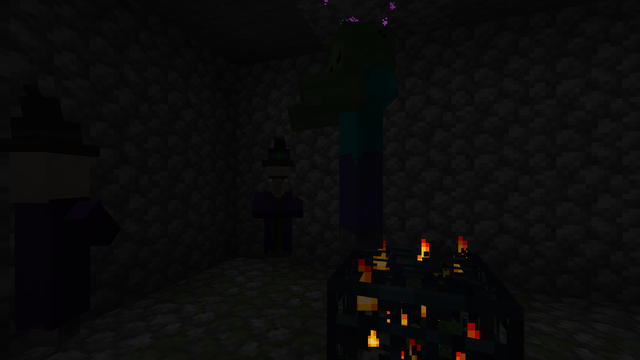sorcieres: (1, 141, 98, 358), (257, 161, 292, 267)
zombies: (320, 19, 393, 253)
